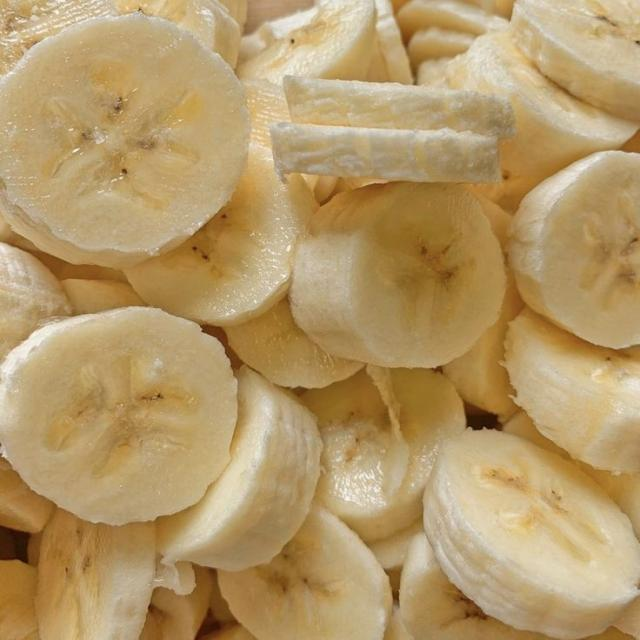banana slice: (0, 13, 249, 267), (0, 308, 236, 524), (425, 431, 639, 639), (290, 183, 505, 367), (126, 144, 317, 326), (447, 33, 637, 210), (157, 367, 321, 570), (302, 369, 466, 540), (509, 152, 639, 348), (220, 507, 392, 639), (506, 310, 639, 472), (400, 532, 545, 639), (512, 0, 639, 121), (36, 510, 155, 639), (284, 77, 515, 139), (271, 122, 499, 182), (225, 299, 363, 388), (443, 271, 524, 417), (237, 0, 376, 83), (0, 0, 116, 74), (114, 0, 240, 67), (0, 243, 72, 359), (140, 567, 213, 639), (578, 463, 639, 538), (368, 514, 423, 594), (398, 0, 507, 40), (0, 458, 53, 533), (0, 560, 44, 639), (502, 411, 571, 460), (374, 0, 413, 84), (243, 79, 289, 148), (467, 186, 513, 253), (32, 250, 127, 282), (60, 279, 145, 314), (407, 27, 474, 69), (256, 6, 318, 46), (202, 326, 243, 370), (154, 554, 195, 595), (0, 214, 38, 252), (210, 571, 236, 625), (303, 175, 339, 204), (417, 58, 452, 87), (384, 605, 413, 639), (364, 41, 388, 82), (238, 31, 267, 64), (465, 0, 514, 18), (201, 624, 255, 639), (219, 0, 247, 26), (0, 527, 18, 560), (27, 532, 42, 567), (622, 131, 639, 152)
